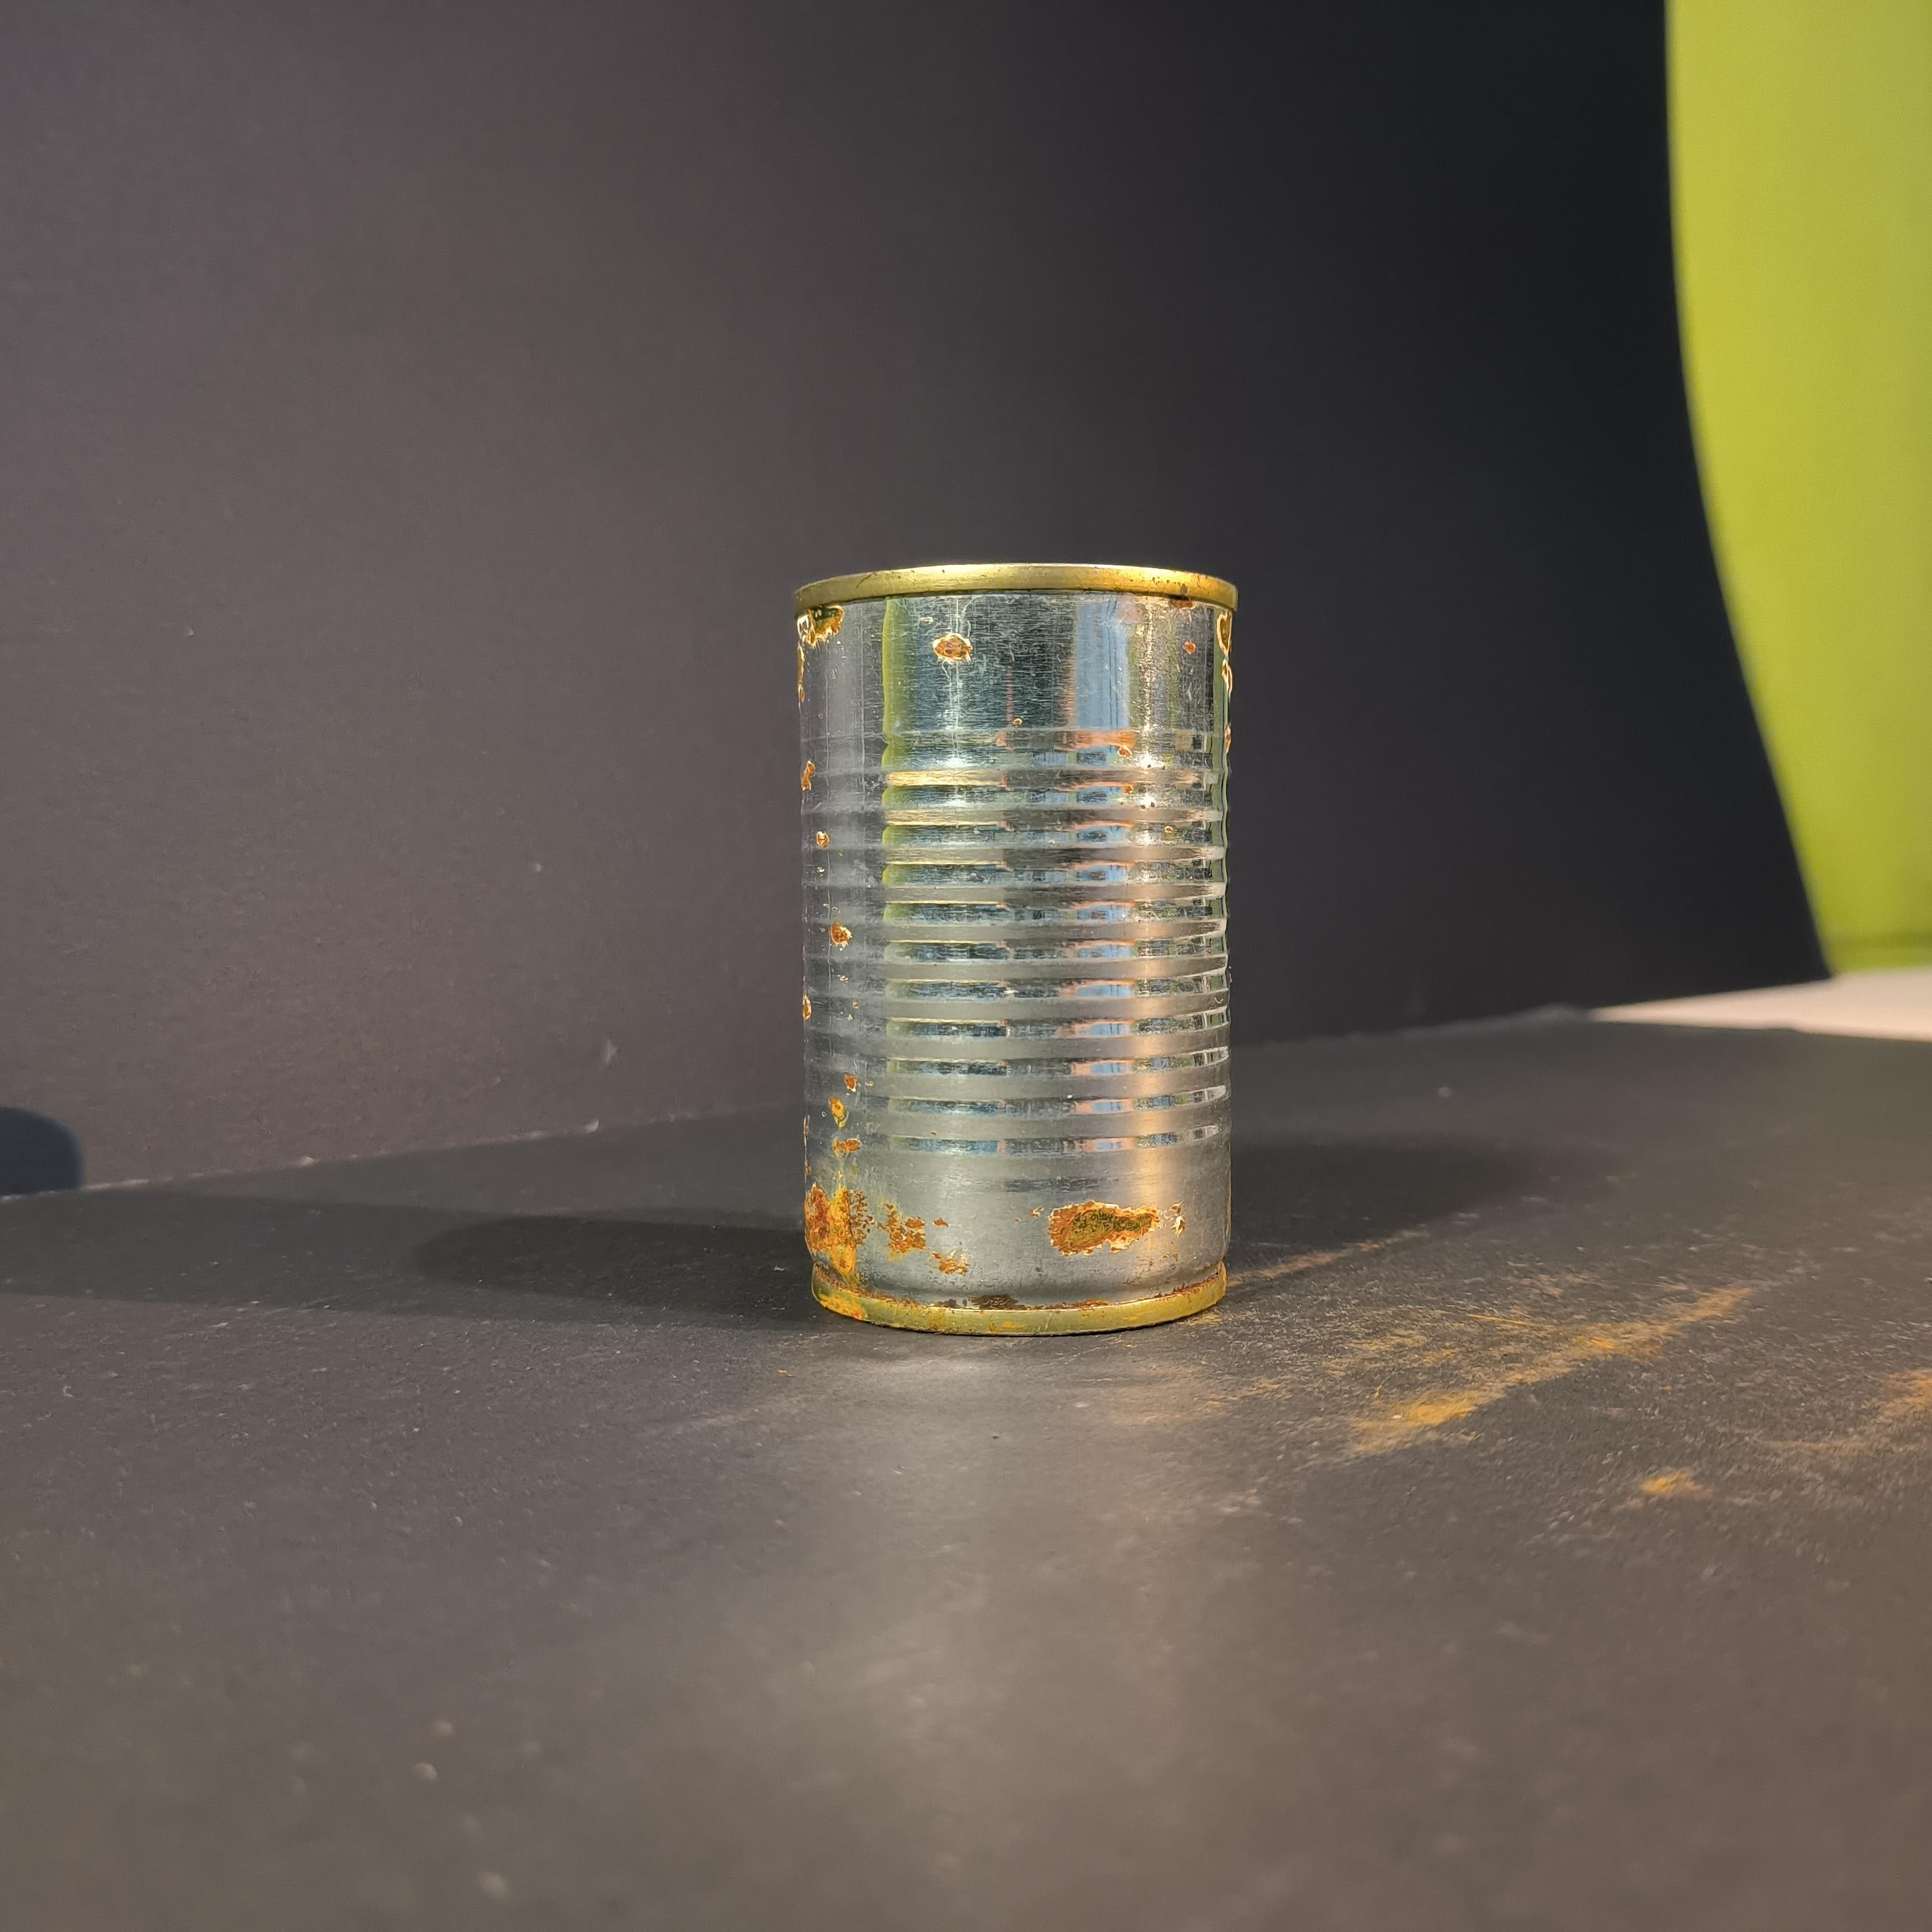Rusted: (784, 540, 1247, 1355)
